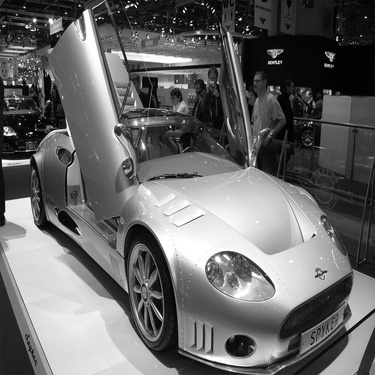car: (30, 6, 363, 349)
